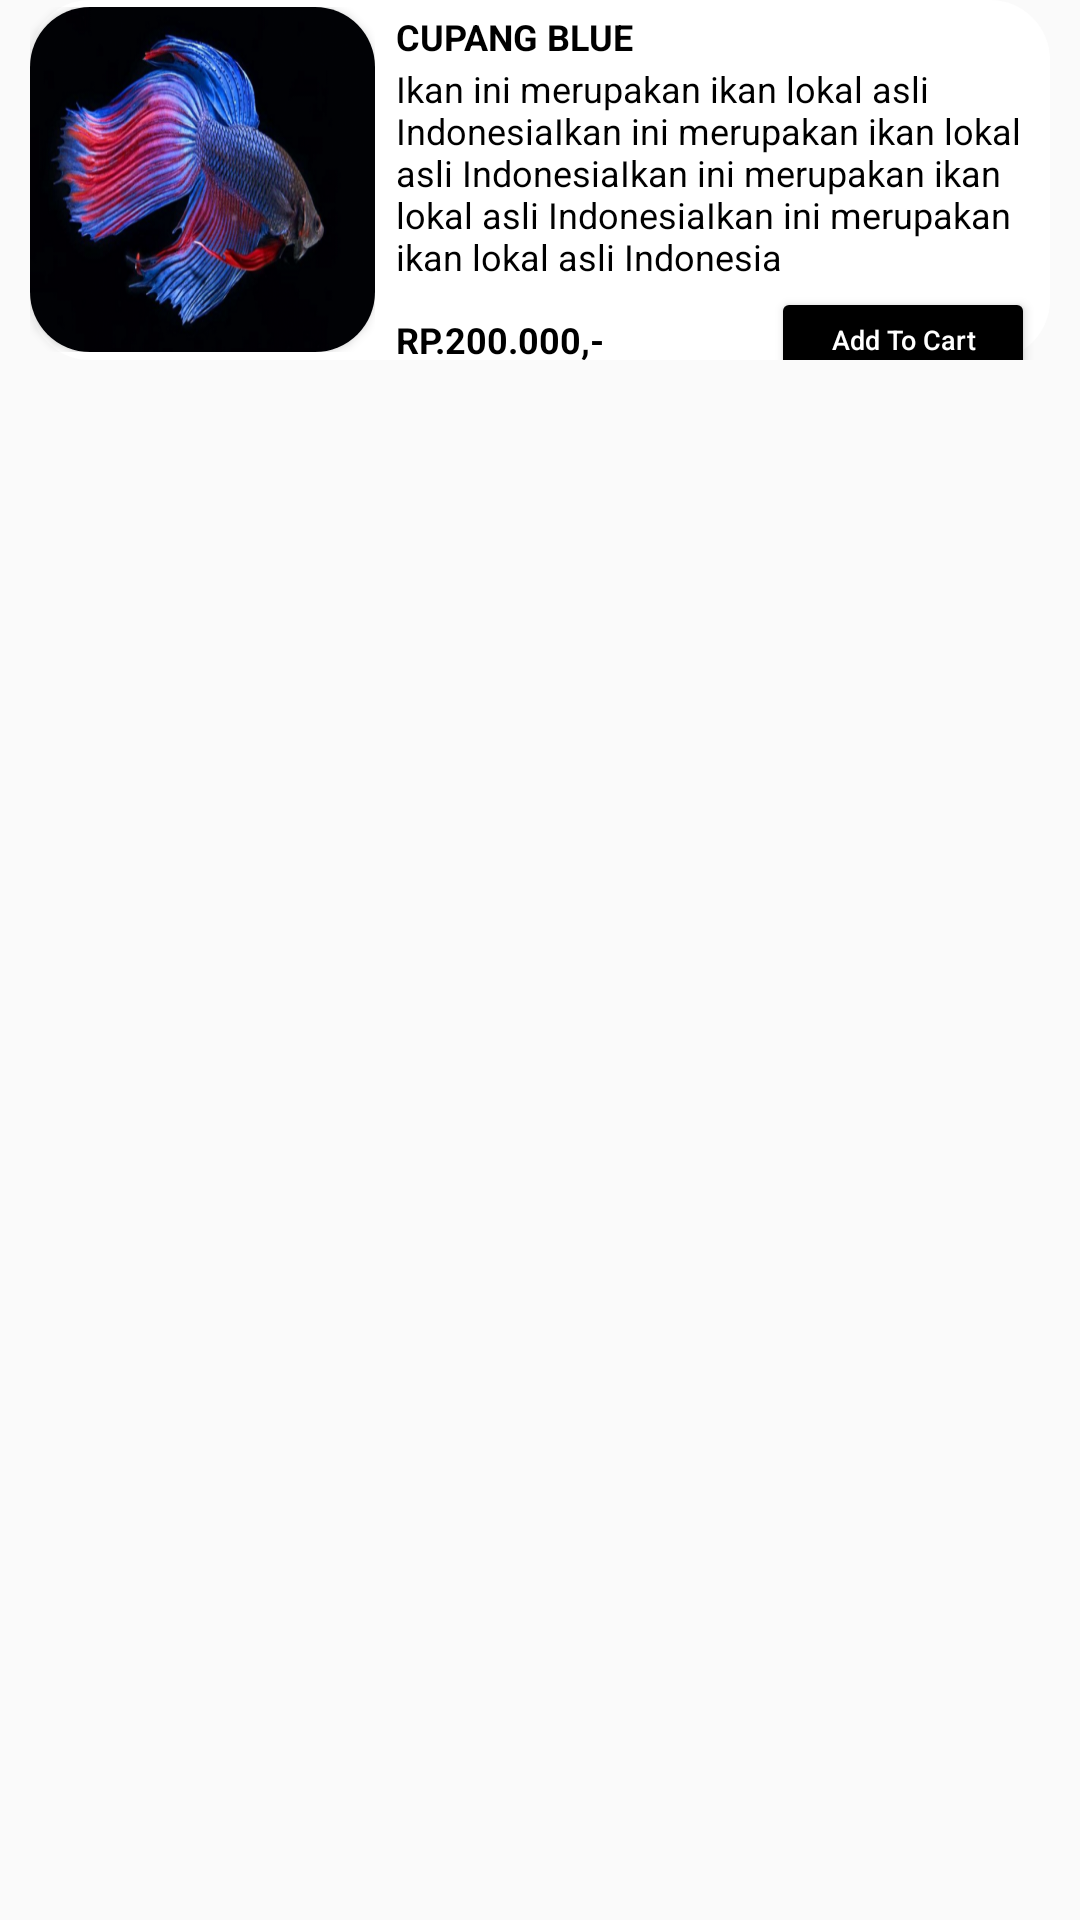

Named icons in this screenshot (1080 x 1920) and their bounding boxes, (x1, y1, x2, y2):
cupang biru: (30, 7, 375, 352)
